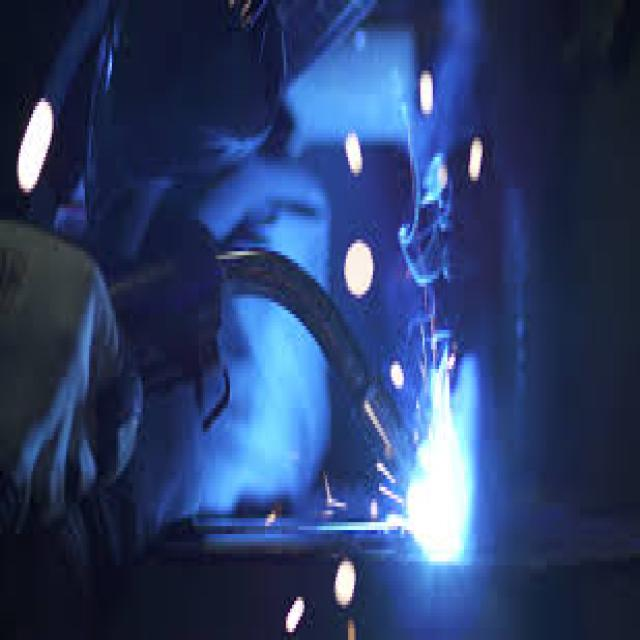welding: (407, 434, 473, 562)
